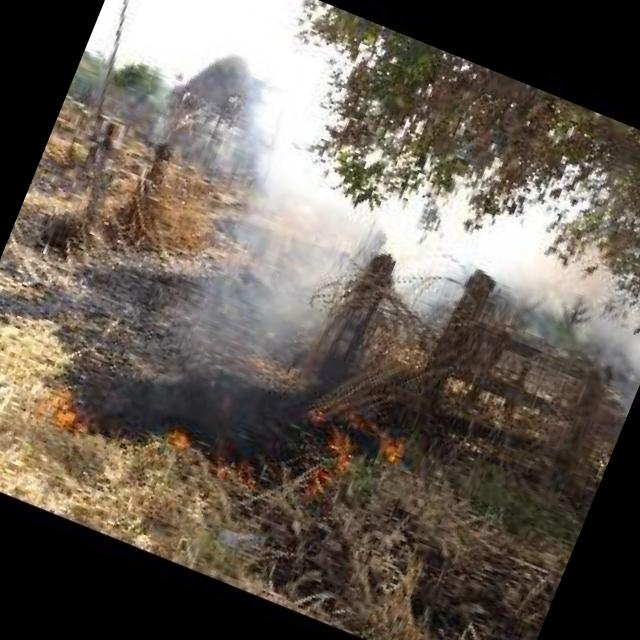fire: (38, 357, 273, 502), (284, 384, 416, 514)
